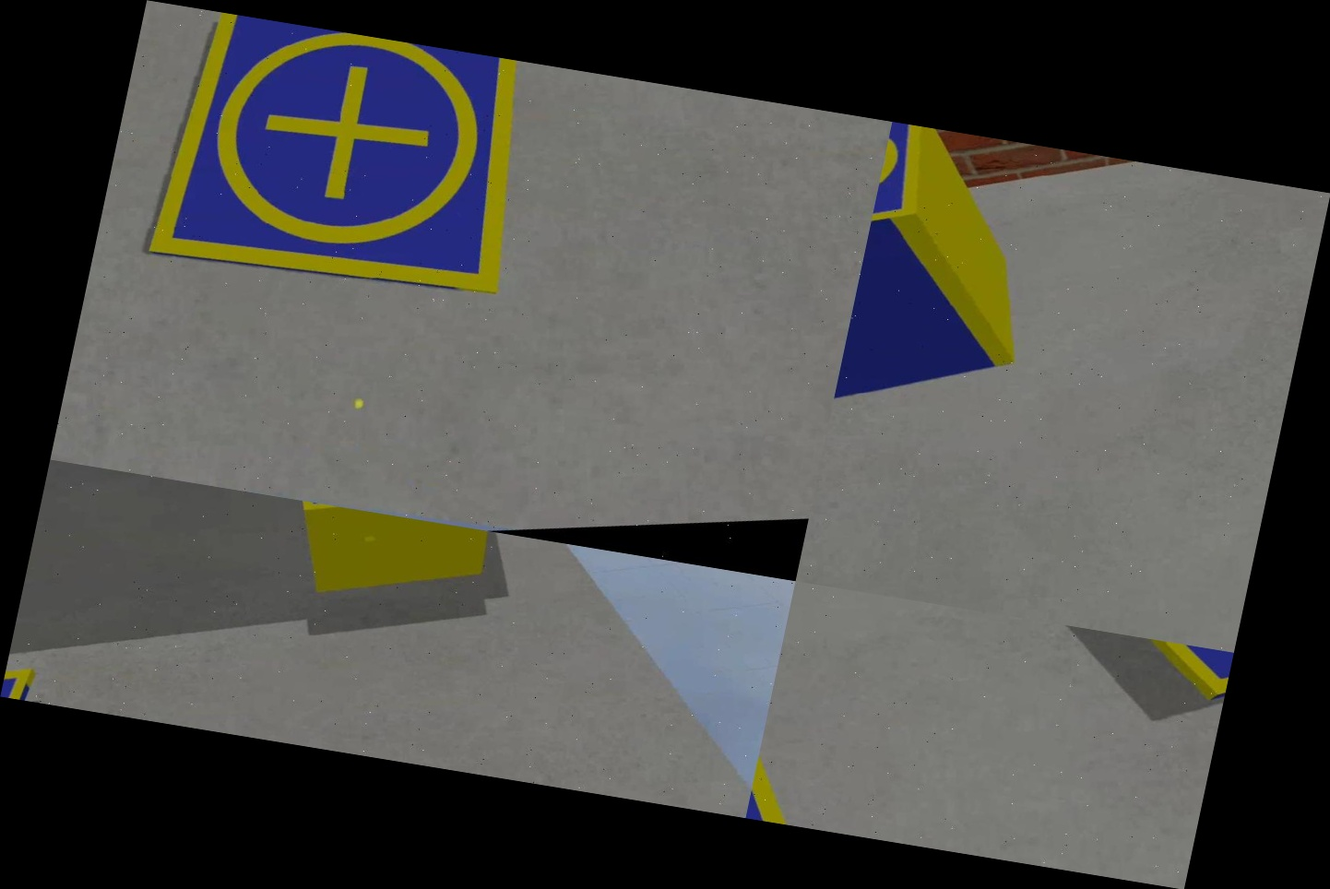small_base: (84, 0, 582, 370), (986, 615, 1233, 732), (863, 122, 946, 265)
